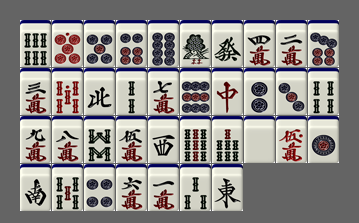0m: (276, 116, 307, 163)
0p: (52, 20, 83, 67)
0s: (52, 68, 83, 115)
1m: (148, 164, 179, 211)
1p: (308, 116, 339, 163)
1s: (180, 20, 211, 67)
1z: (212, 164, 243, 211)
2m: (276, 20, 307, 67)
2p: (244, 68, 275, 115)
2s: (116, 68, 147, 115)
2z: (20, 164, 51, 211)
3m: (20, 68, 51, 115)
3p: (276, 68, 307, 115)
3s: (180, 164, 211, 211)
3z: (148, 116, 179, 163)
4m: (244, 20, 275, 67)
4p: (84, 164, 115, 211)
4s: (308, 68, 339, 115)
4z: (84, 68, 115, 115)
5m: (116, 116, 147, 163)
5p: (84, 20, 115, 67)
5s: (52, 164, 83, 211)
5z: (244, 116, 275, 163)
6m: (116, 164, 147, 211)
6p: (116, 20, 147, 67)
6s: (20, 20, 51, 67)
6z: (212, 20, 243, 67)
7m: (148, 68, 179, 115)
7p: (308, 20, 339, 67)
7s: (212, 116, 243, 163)
7z: (212, 68, 243, 115)
8m: (52, 116, 83, 163)
8p: (148, 20, 179, 67)
8s: (84, 116, 115, 163)
9m: (20, 116, 51, 163)
9p: (180, 68, 211, 115)
9s: (180, 116, 211, 163)
